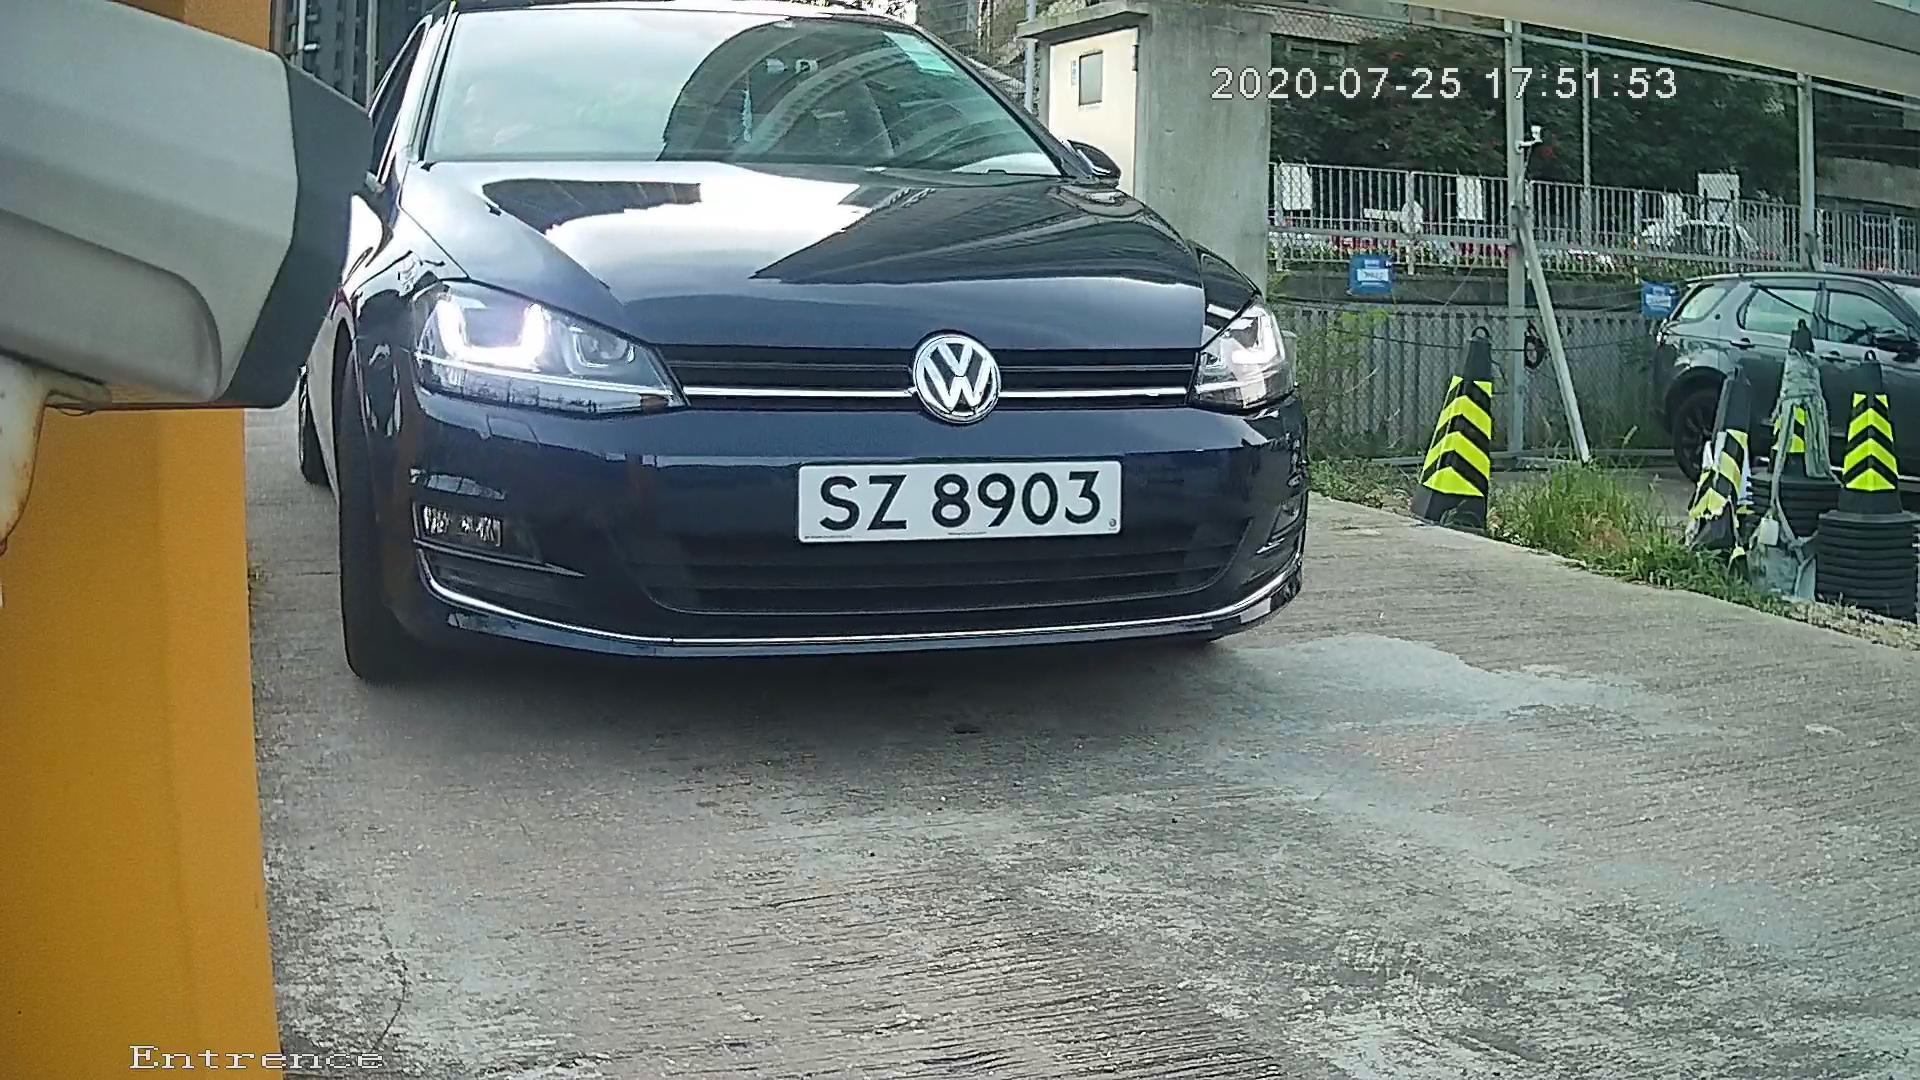privatecar: (198, 5, 1561, 713)
